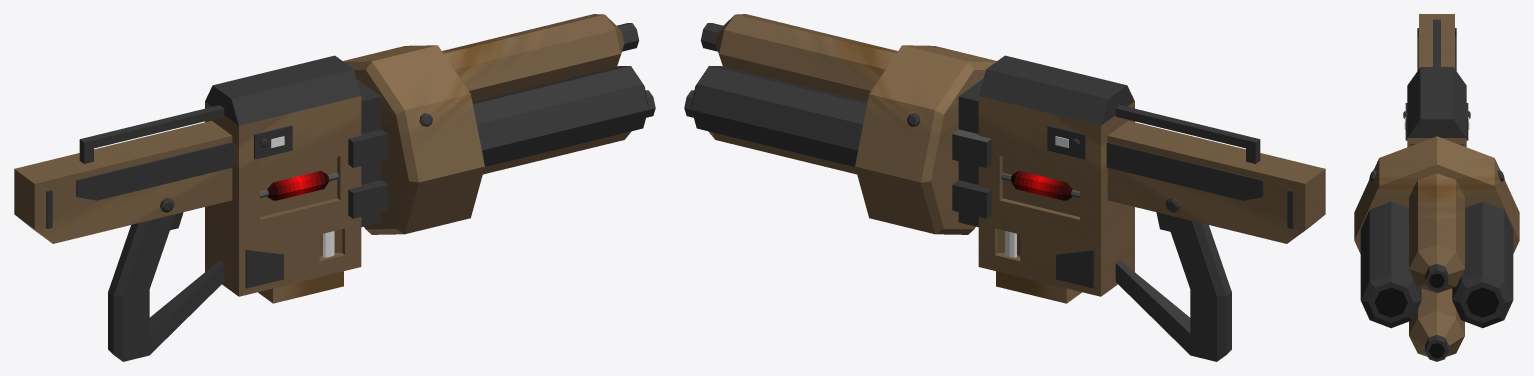
Rendered from Grenade_Launcher_V3.FBX.
3 views of the same model, side by side, from view 1: azimuth 30°, elevation 25°; view 2: azimuth 150°, elevation 25°; view 3: azimuth 270°, elevation 25° (orthographic). The views are drawn at different scales.
Visible parts, largest first — view 1: Grenade_Launcher_V3, Magazine; view 2: Grenade_Launcher_V3, Magazine; view 3: Grenade_Launcher_V3.
Part boxes in pixels (x1,y1,x2,y2): Grenade_Launcher_V3: (14,14,655,361); Magazine: (258,271,343,303); Grenade_Launcher_V3: (684,14,1325,361); Magazine: (996,271,1081,303); Grenade_Launcher_V3: (1354,14,1519,361).
Bounding box in the file's own units: 415 × 153 × 108.
